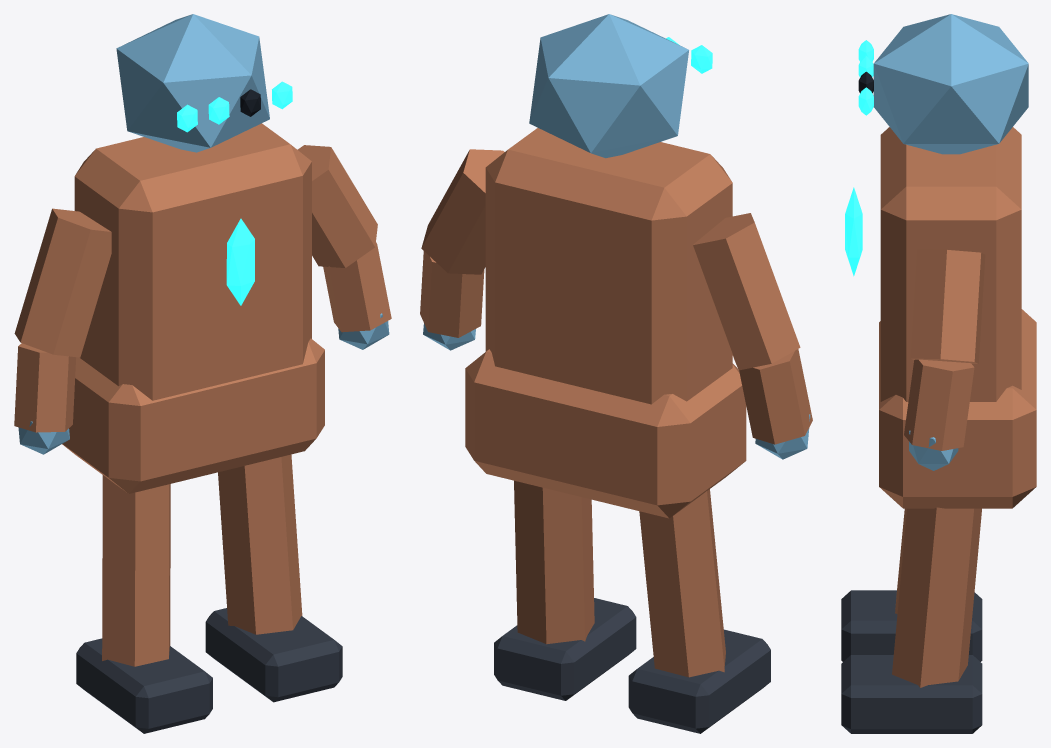
File: npcs_040_seed78877.glb
3 renders of one model, left to right at view 1: azimuth 30°, elevation 25°; view 2: azimuth 150°, elevation 25°; view 3: azimuth 270°, elevation 25°, orthographic. The views are drawn at different scales.
Parts seen in each view (by area): view 1: npcs_040_seed78877; view 2: npcs_040_seed78877; view 3: npcs_040_seed78877.
Part boxes in pixels (<box>): npcs_040_seed78877: <box>14,14,391,733</box>; npcs_040_seed78877: <box>420,14,812,733</box>; npcs_040_seed78877: <box>841,14,1036,733</box>.
Bounding box in the file's own units: 0.9965 × 1.7 × 0.4458.
